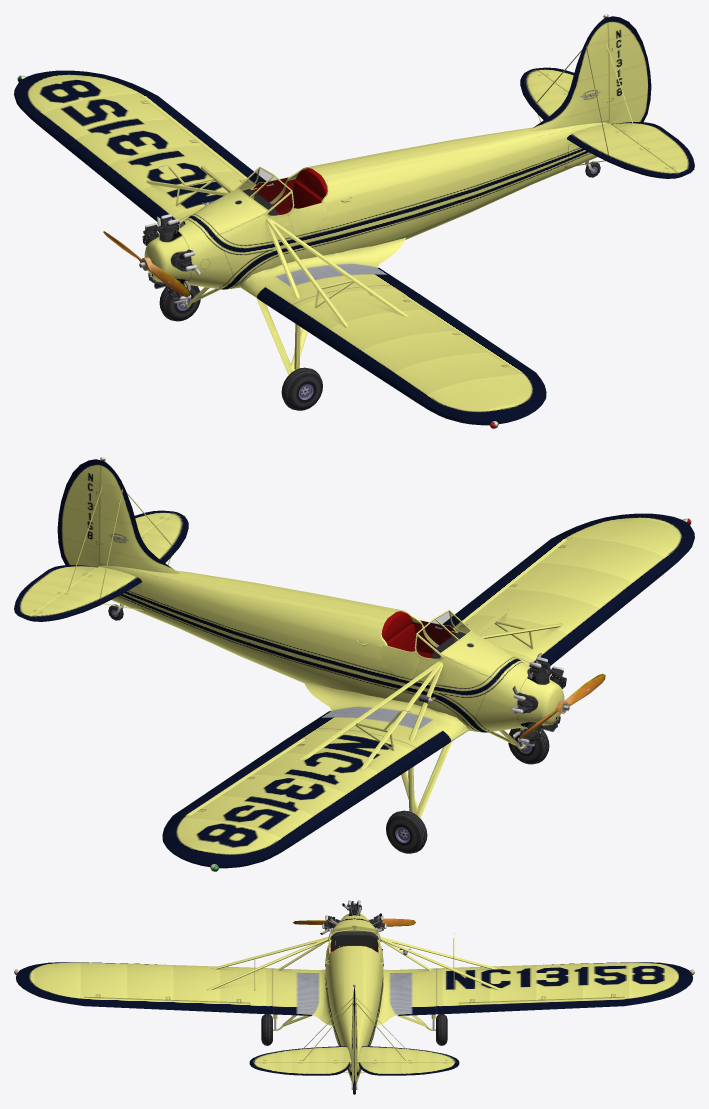
Rendered from airplane.glb.
The picture shows the model from 3 angles, top to bottom: view 1: azimuth 30°, elevation 25°; view 2: azimuth 150°, elevation 25°; view 3: azimuth 270°, elevation 25°; orthographic projection. The views are drawn at different scales.
Parts seen in each view (by area): view 1: acmat1.016, acmat1.020, acmat1.010, acmat1.008, acmat1.015, acmat1, acmat1.003, acmat1.012, acmat0.003, acmat1.017, acmat1.019, acmat2 (+1 smaller); view 2: acmat1.016, acmat1.020, acmat1.010, acmat1.019, acmat1.011, acmat1, acmat1.003, acmat1.012, acmat0.003, acmat1.017, acmat1.008, acmat2 (+1 smaller); view 3: acmat1.016, acmat1.010, acmat1.020, acmat1, acmat1.003, acmat1.017, acmat1.007, acmat1.015, acmat1.002, acmat1.009, acmat1.011, acmat1.012 (+2 smaller).
Boxes of the visible parts, x1,y1,x2,y2 form: acmat1.016: (14, 68, 680, 425); acmat1.020: (144, 122, 607, 289); acmat1.010: (141, 67, 694, 372); acmat1.008: (142, 18, 609, 293); acmat1.015: (265, 16, 651, 298); acmat1: (146, 165, 409, 369); acmat1.003: (159, 202, 322, 410); acmat1.012: (189, 166, 307, 375); acmat0.003: (239, 168, 292, 215); acmat1.017: (21, 14, 641, 428); acmat1.019: (168, 167, 371, 307); acmat2: (103, 231, 189, 297); acmat1.016: (28, 511, 694, 868); acmat1.020: (101, 565, 564, 732); acmat1.010: (14, 510, 567, 815); acmat1.019: (99, 461, 533, 750); acmat1.011: (57, 459, 367, 645); acmat1: (299, 609, 562, 812); acmat1.003: (386, 697, 549, 853); acmat1.012: (401, 609, 519, 818); acmat0.003: (416, 611, 469, 658); acmat1.017: (67, 457, 687, 871); acmat1.008: (431, 632, 566, 736); acmat2: (519, 673, 605, 739); acmat1.016: (16, 962, 692, 1063); acmat1.010: (84, 901, 624, 1075); acmat1.020: (325, 913, 383, 1083); acmat1: (207, 932, 501, 1030); acmat1.003: (261, 948, 447, 1045); acmat1.017: (14, 900, 694, 1073); acmat1.007: (211, 940, 497, 989); acmat1.015: (277, 941, 431, 1085); acmat1.002: (331, 935, 377, 949); acmat1.009: (84, 996, 624, 1003); acmat1.011: (279, 941, 429, 1089); acmat1.012: (282, 925, 426, 1026).
Bounding box in the file's own units: 7.41 × 3.63 × 11.96.
3 materials, 3 textured.
